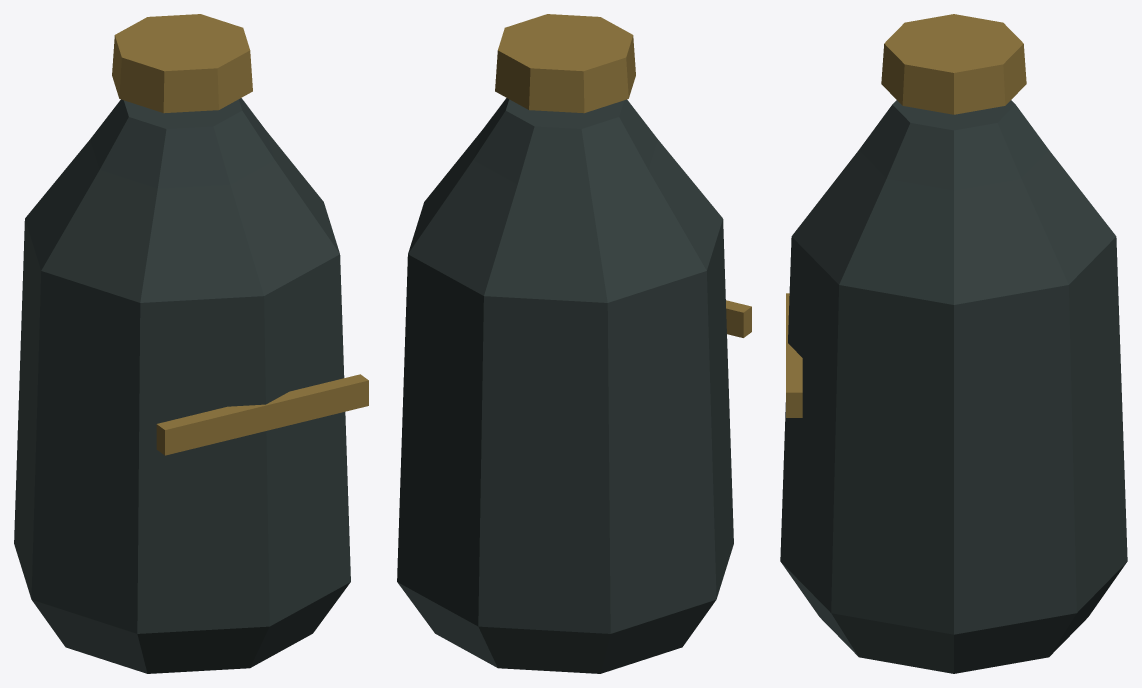
File: mega_potion.obj
The picture shows the model from 3 angles, left to right: view 1: azimuth 30°, elevation 25°; view 2: azimuth 150°, elevation 25°; view 3: azimuth 270°, elevation 25°; orthographic projection.
Visible parts, largest first — view 1: mega_potion; view 2: mega_potion; view 3: mega_potion.
Boxes of the visible parts, x1,y1,x2,y2 form: mega_potion: [14, 14, 368, 673]; mega_potion: [397, 14, 751, 673]; mega_potion: [780, 14, 1127, 673].
Size of the model in its own units: 1.24 by 2.26 by 1.24.
